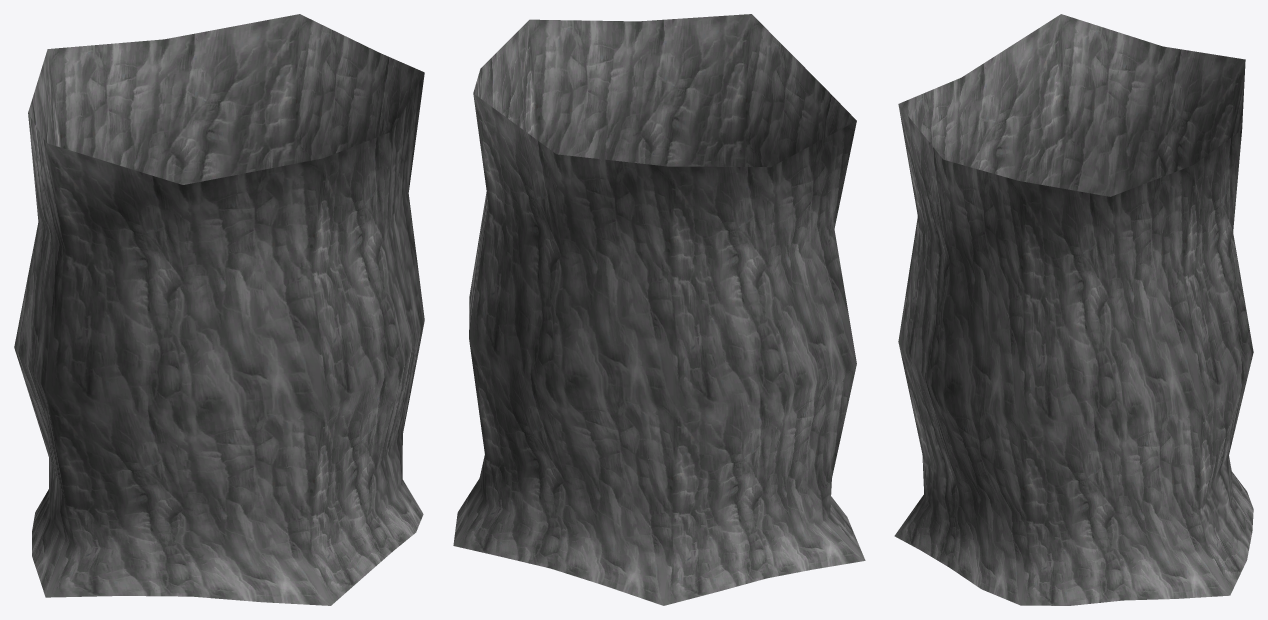
File: SWORDLIGHT20_PS-AREA04_12.fbx
3 views of the same model, side by side, from view 1: azimuth 30°, elevation 25°; view 2: azimuth 150°, elevation 25°; view 3: azimuth 270°, elevation 25° (orthographic). The views are drawn at different scales.
Parts seen in each view (by area): view 1: SWORDLIGHT20_PS-AREA04_12; view 2: SWORDLIGHT20_PS-AREA04_12; view 3: SWORDLIGHT20_PS-AREA04_12.
Part boxes in pixels (x1=…): SWORDLIGHT20_PS-AREA04_12: x1=14, y1=14, x2=424, y2=605; SWORDLIGHT20_PS-AREA04_12: x1=453, y1=14, x2=865, y2=605; SWORDLIGHT20_PS-AREA04_12: x1=894, y1=14, x2=1253, y2=605.
Bounding box in the file's own units: 68360 × 79241 × 59681.
Materials: 1 (1 with a texture image).
